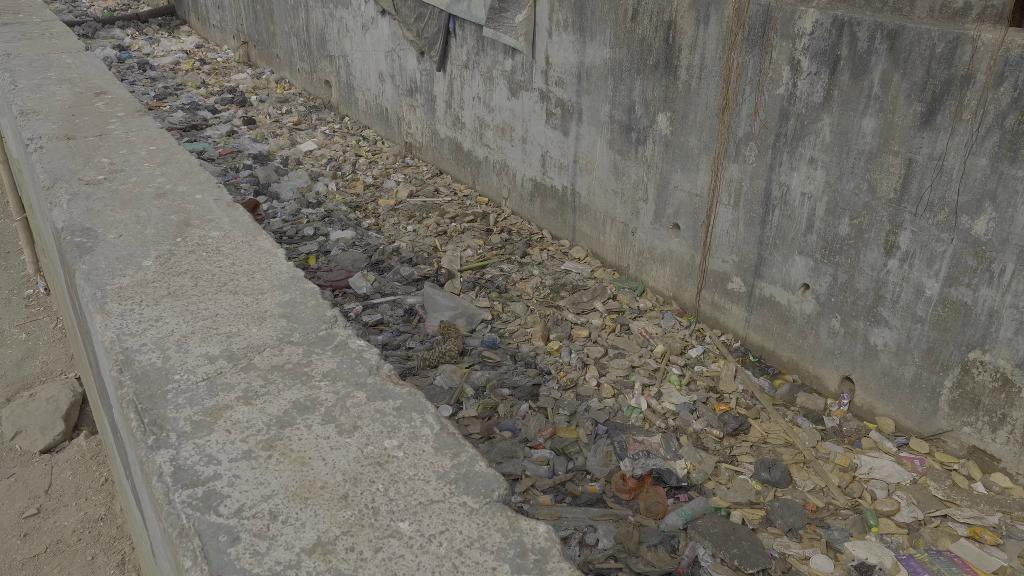garbage: (411, 284, 495, 341), (655, 498, 713, 533), (743, 455, 793, 489), (581, 440, 616, 481), (714, 410, 754, 437), (520, 457, 556, 482), (862, 502, 885, 536), (787, 409, 818, 432), (635, 326, 661, 350), (558, 307, 584, 328), (621, 402, 645, 423), (668, 372, 686, 393)
